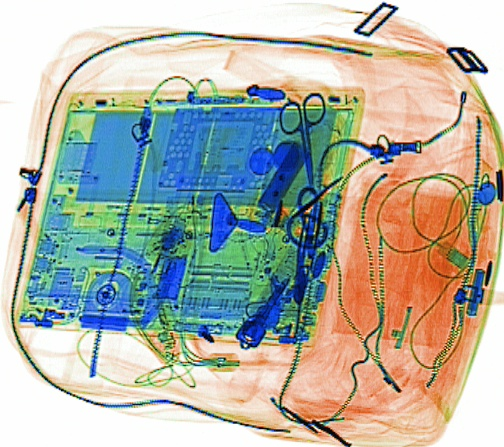scissors: (278, 91, 327, 197)
